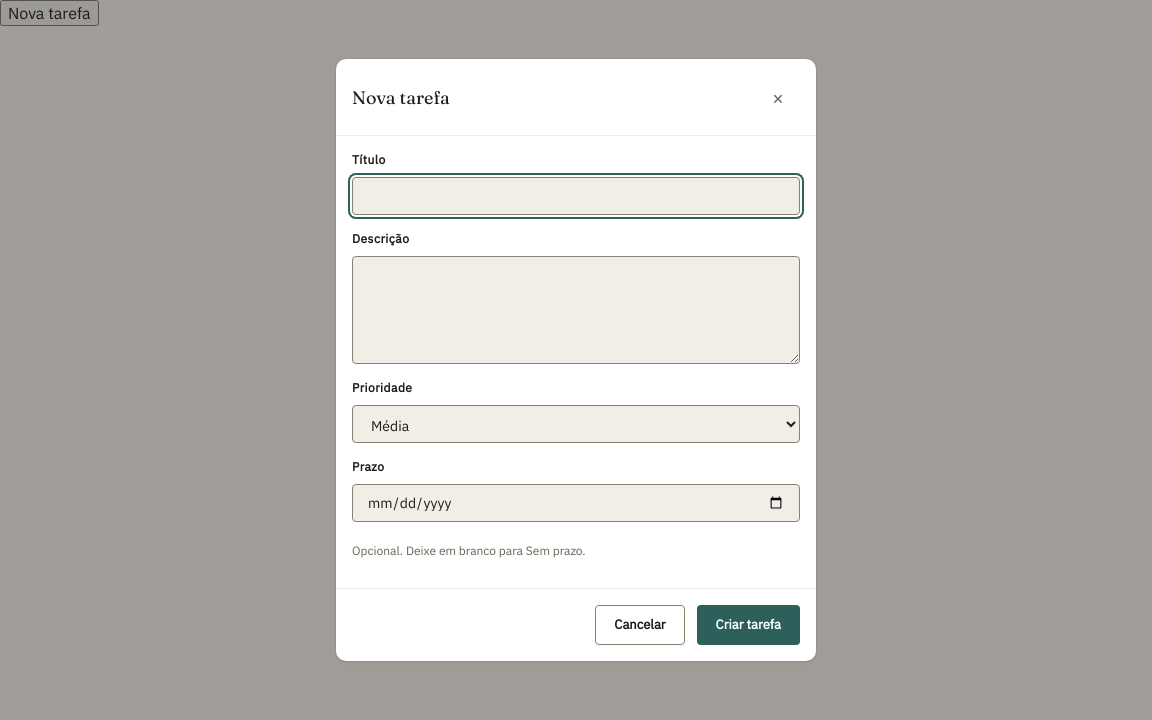
Test case: TaskFormDialog › shows a validation error and blocks submit when title is empty
The width and height of the screenshot is (1152, 720).
Click the button "Criar tarefa" at (748, 625), box [697,605,800,645]
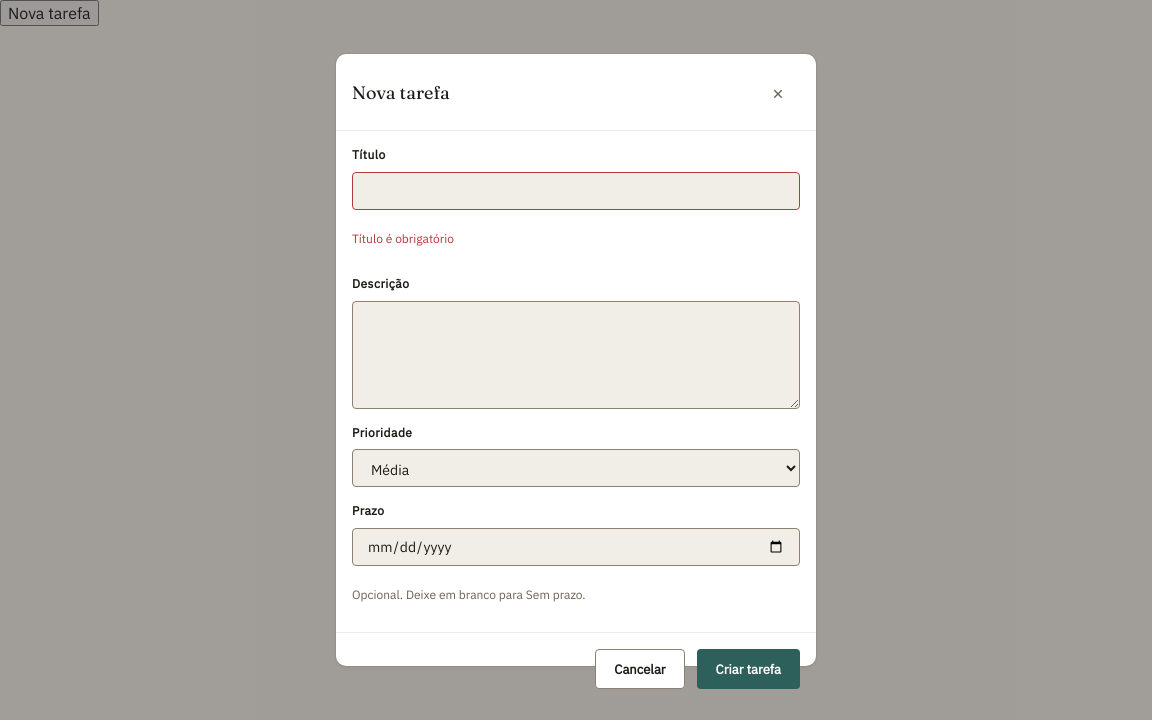
expect the text "Título é obrigatório" is shown: met, box [352,231,454,246]
